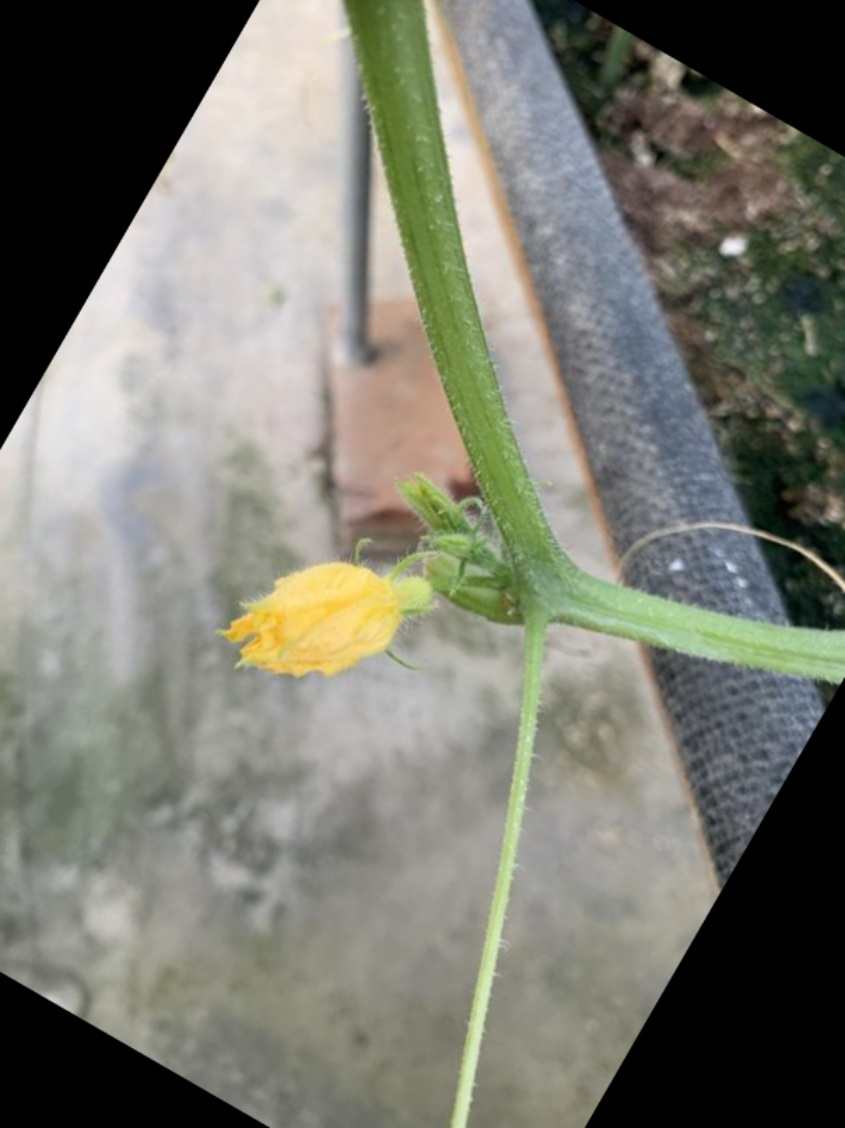bud: (210, 547, 434, 704)
